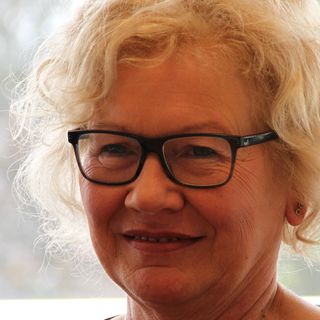eye: (95, 140, 139, 163), (181, 142, 226, 164)
